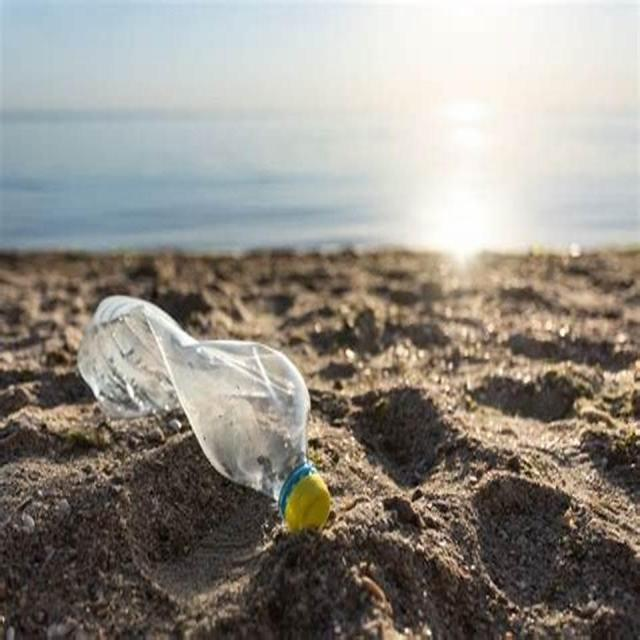plastic bottle: (75, 296, 310, 503)
plastic bottle cap: (284, 473, 332, 534)
